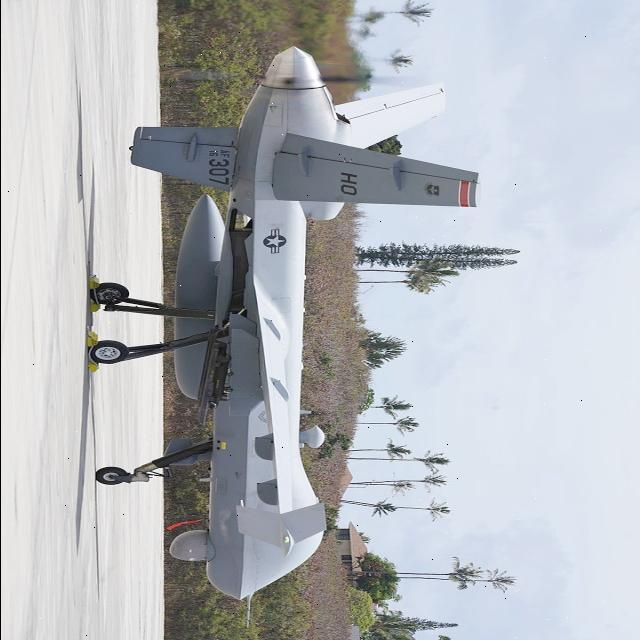MQ9: (34, 37, 540, 633)
